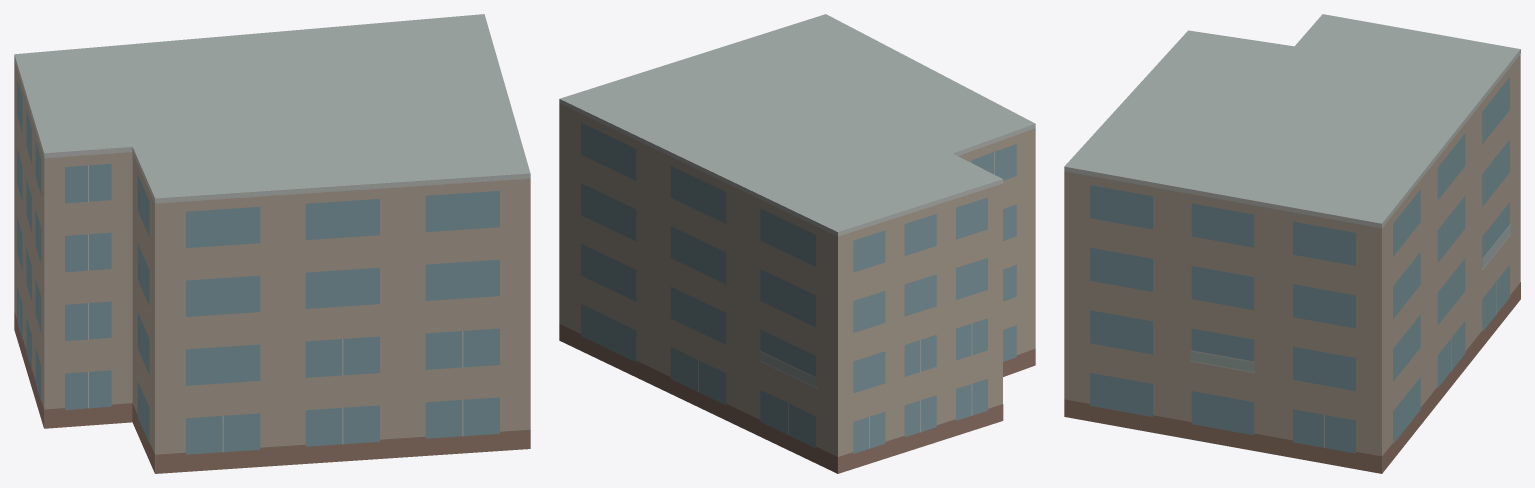
The model's file is survey-upis-32538990.glb.
The picture shows the model from 3 angles, left to right: view 1: azimuth 30°, elevation 25°; view 2: azimuth 150°, elevation 25°; view 3: azimuth 270°, elevation 25°; orthographic projection. The views are drawn at different scales.
Parts seen in each view (by area): view 1: survey-upis-32538990.tmp; view 2: survey-upis-32538990.tmp; view 3: survey-upis-32538990.tmp.
Part boxes in pixels (bbox=[...]): survey-upis-32538990.tmp: bbox=[14, 14, 530, 473]; survey-upis-32538990.tmp: bbox=[559, 14, 1035, 473]; survey-upis-32538990.tmp: bbox=[1064, 14, 1520, 473].
Bounding box in the file's own units: 23.73 × 13.2 × 21.84.
